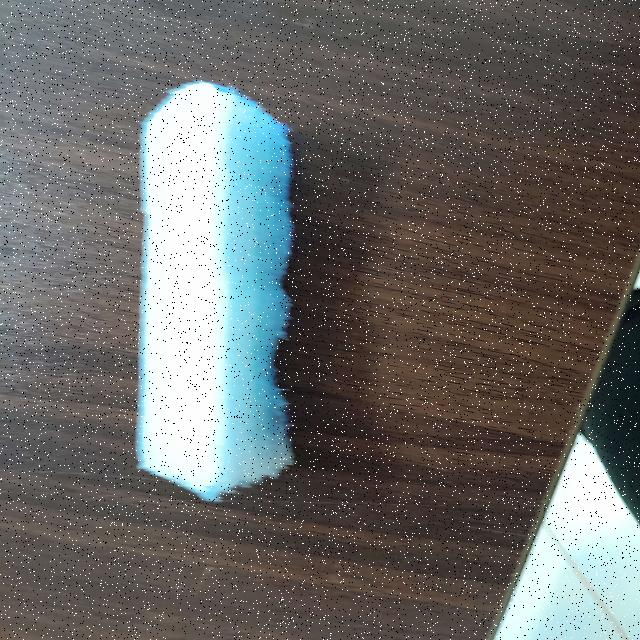engine: (132, 82, 304, 494)
